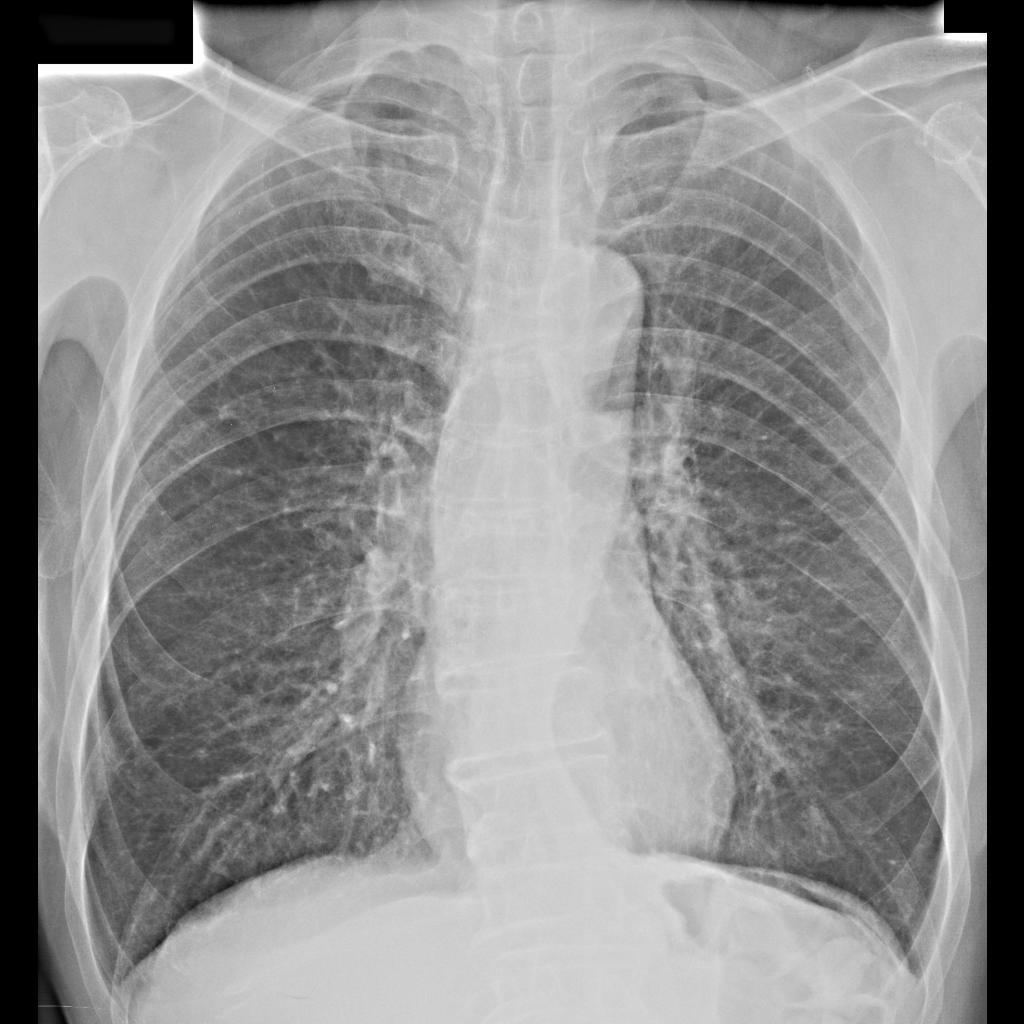Nodule: (615, 637, 677, 699)
